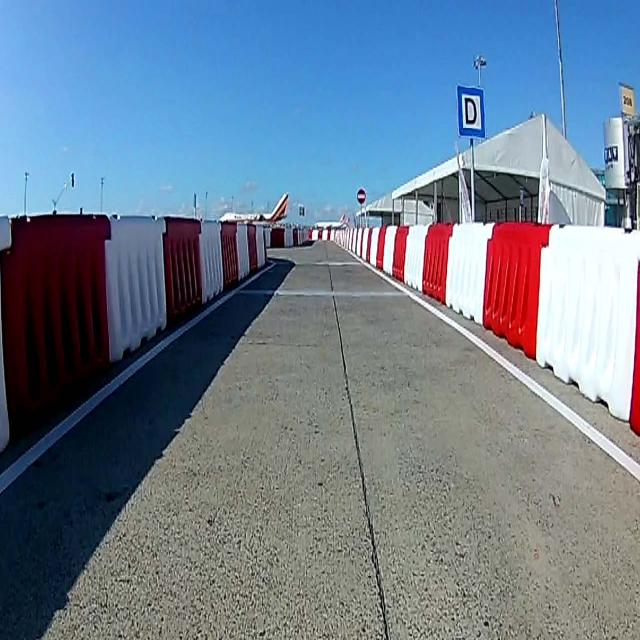durak: (457, 87, 484, 137)
girisyok: (356, 185, 366, 203)
